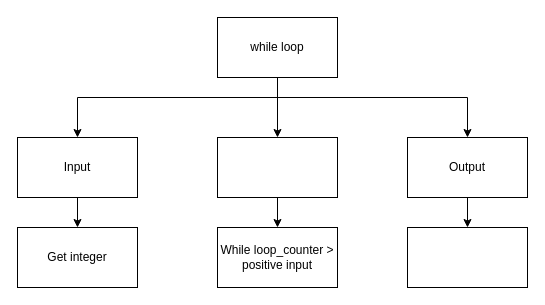
Image size: 545x305. Some labels were removed from this diagram. The shapes that lost their labels are listed below. From the top down, each one's box as (x1, y1, x2, y2) in pixels, then its label:
(216, 136, 338, 198): Process
(406, 226, 528, 288): Show answer accordingly
